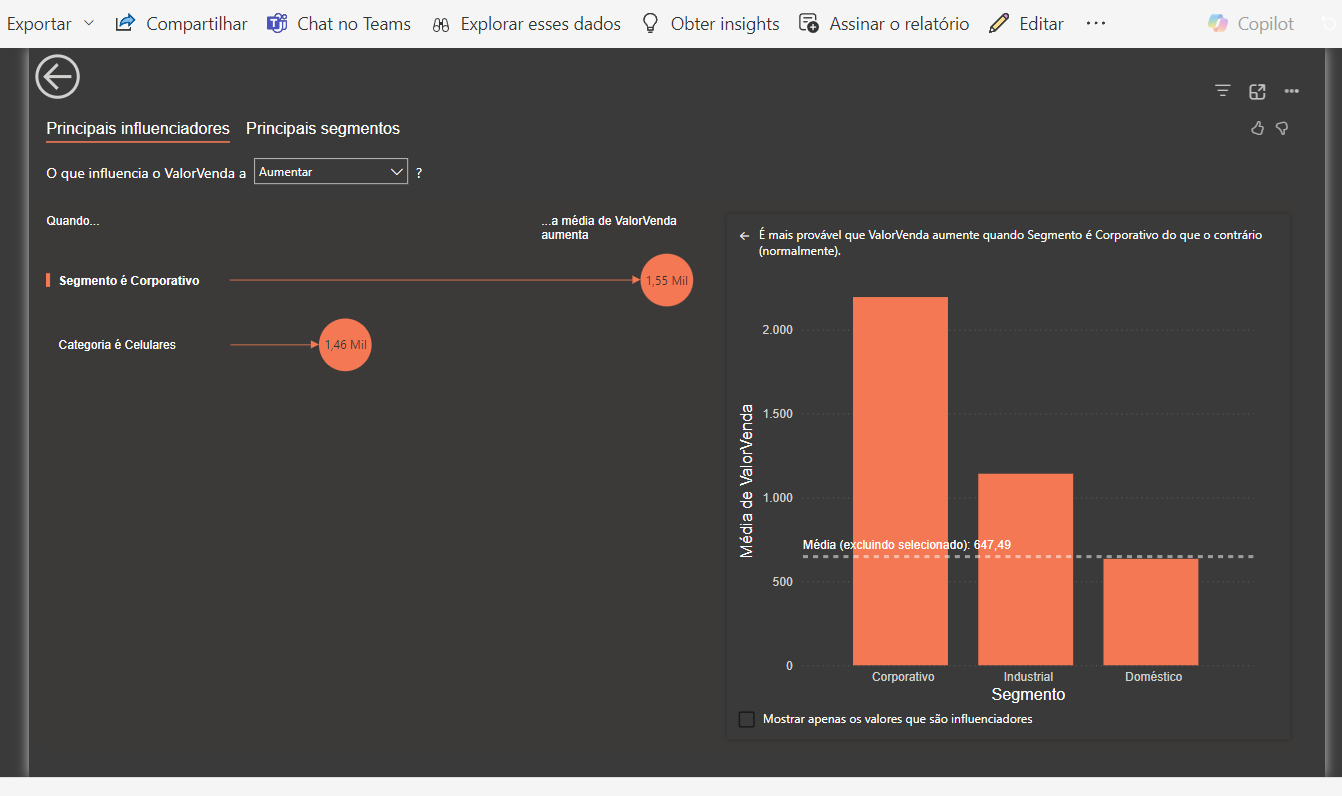

What the dashboard file says about the page in this screenshot:
{"tool":"powerbi","page":{"name":"Principais Influenciadores de Vendas","canvas":[1280,720],"ordinal":2},"visuals":[{"type":"keyDriversVisual","fields":{"Target":["Vendas.ValorVenda"],"ExplainBy":["Vendas.Segmento","Vendas.Categoria"]},"box":[0,56.4,1262.6,639.3],"z":0},{"type":"actionButton","box":[0,0,99.4,56.4],"z":1000}]}

Visuals, with their boxes on the page's 1280x720 design canvas (x1, y1, x2, y2). These are canvas units, not pixel positions in the 1342x796 screenshot, which may show the page scaled, cropped or inside an application window:
keyDriversVisual - Vendas.ValorVenda x Vendas.Segmento: Rect(0, 56, 1263, 696)
actionButton: Rect(0, 0, 99, 56)
